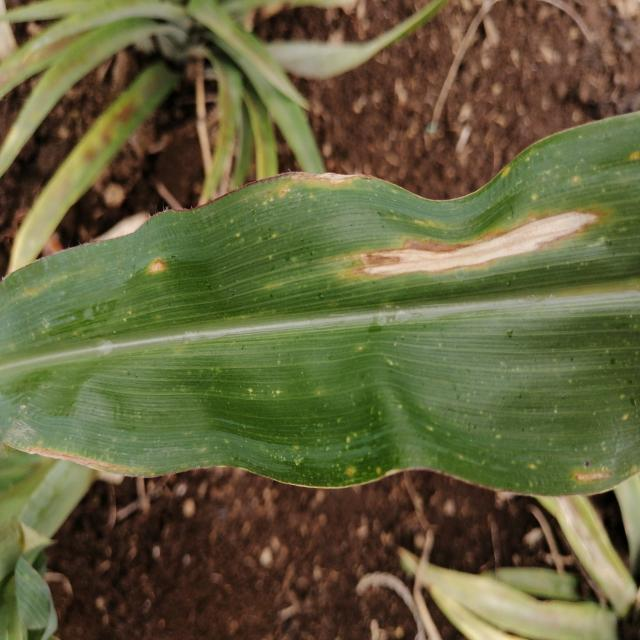Corn_Leaf_Blight: (0, 110, 640, 493)
